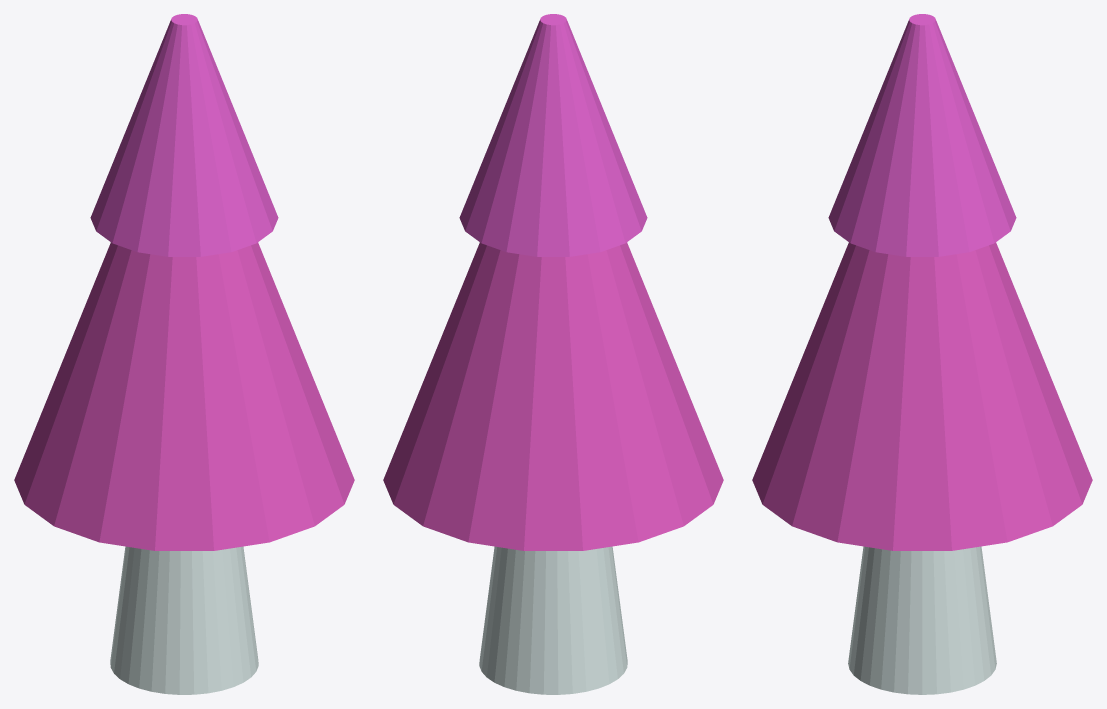
The model's file is Arbre rose.fbx.
3 views of the same model, side by side, from view 1: azimuth 30°, elevation 25°; view 2: azimuth 150°, elevation 25°; view 3: azimuth 270°, elevation 25° (orthographic).
Parts seen in each view (by area): view 1: Cone.001; view 2: Cone.001; view 3: Cone.001.
Boxes of the visible parts, x1,y1,x2,y2 form: Cone.001: [14, 14, 354, 694]; Cone.001: [383, 14, 723, 694]; Cone.001: [752, 14, 1092, 694].
Bounding box in the file's own units: 167 × 354 × 170.
